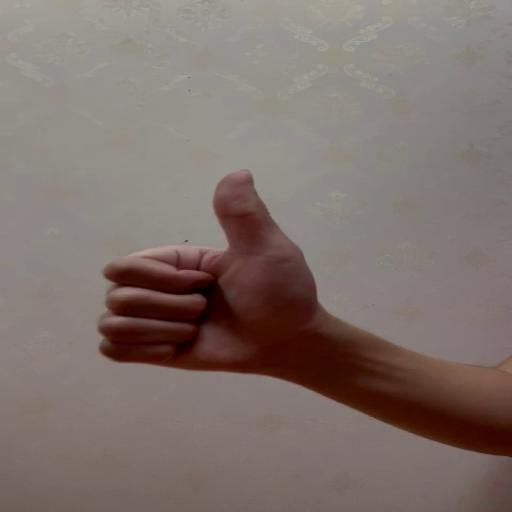thumbs_up: (94, 166, 316, 371)
